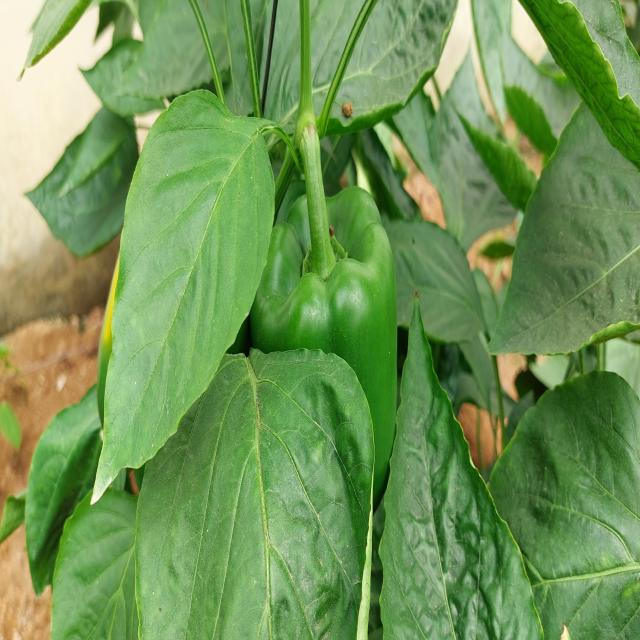Green--Not-ready-to-harvest: (254, 196, 399, 514)
